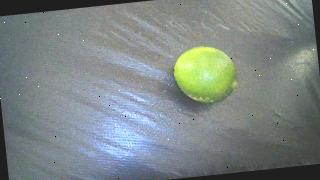DESECHO: (171, 44, 239, 107)
